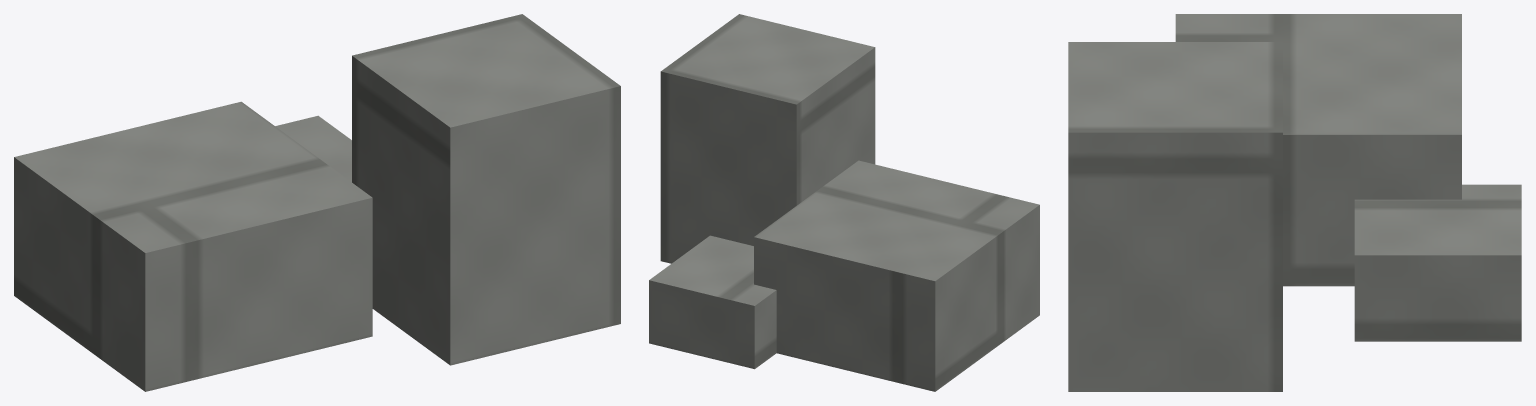
Rendered from rubble.obj.
3 renders of one model, left to right at view 1: azimuth 30°, elevation 25°; view 2: azimuth 150°, elevation 25°; view 3: azimuth 270°, elevation 25°, orthographic. The views are drawn at different scales.
Visible parts, largest first — view 1: rubble; view 2: rubble; view 3: rubble.
Part boxes in pixels (x1,y1,x2,y2): rubble: (14,14,620,391); rubble: (649,14,1039,391); rubble: (1068,14,1521,391).
Size of the model in its own units: 1.12 by 0.6 by 0.95.
1 material, 1 textured.
